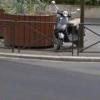Motorcycle: (51, 2, 88, 51)
